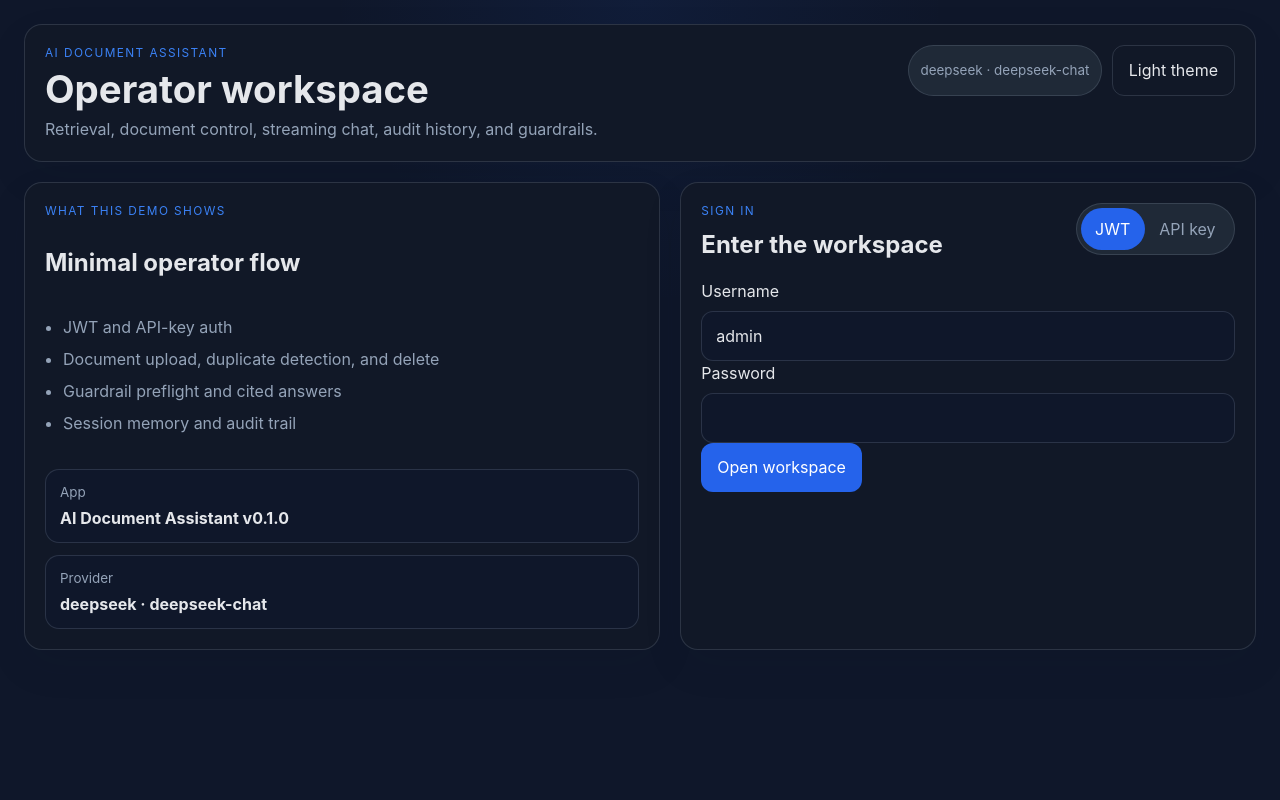
Scenario: App › authenticates an operator and shows the document workspace
Expected: the button "Open workspace" is shown, [701,443,862,492]
In the password field labelled "Password": (968, 418) [701,393,1235,443], type "admin"
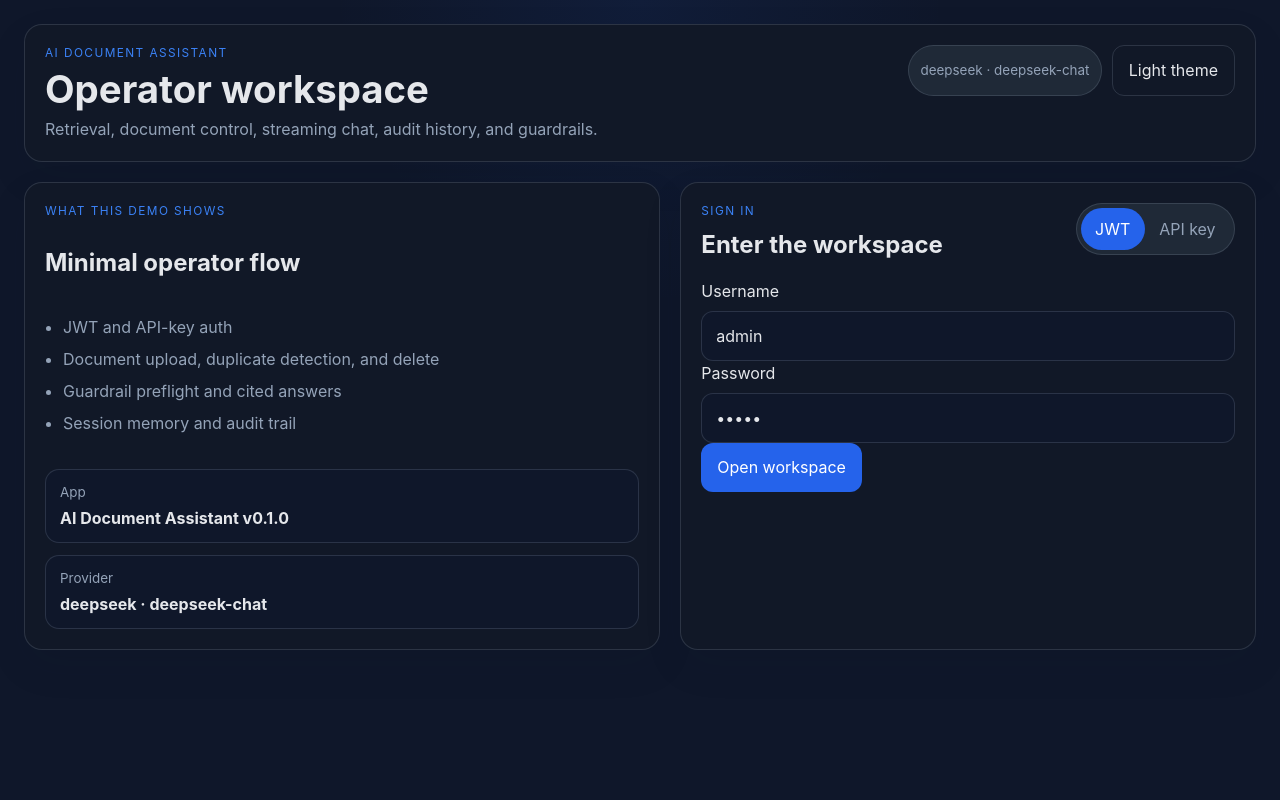
Click the button "Open workspace": (782, 467) [701,443,862,492]
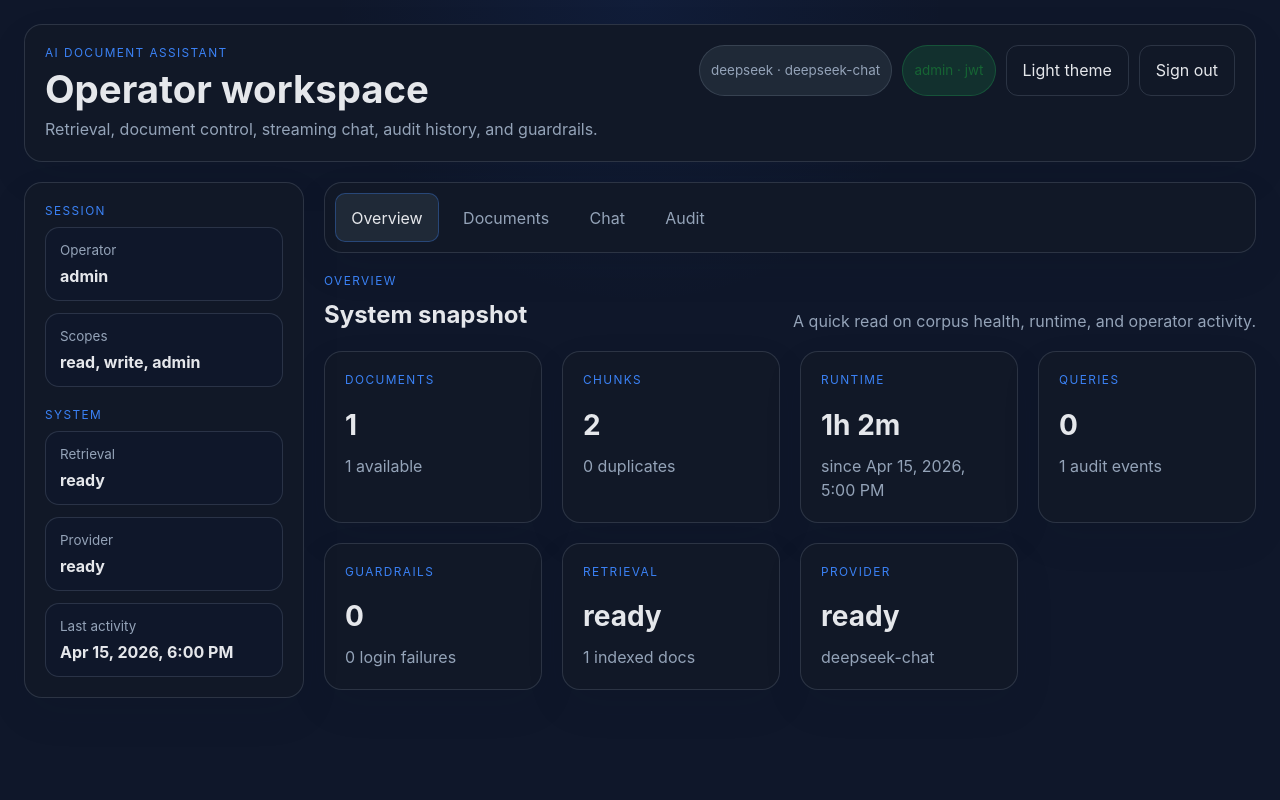
Expected: the button "Documents" is shown
Expected: the text "1h 2m" is shown, [821,408,900,442]
Click the button "Documents": (506, 218) [447,193,565,242]
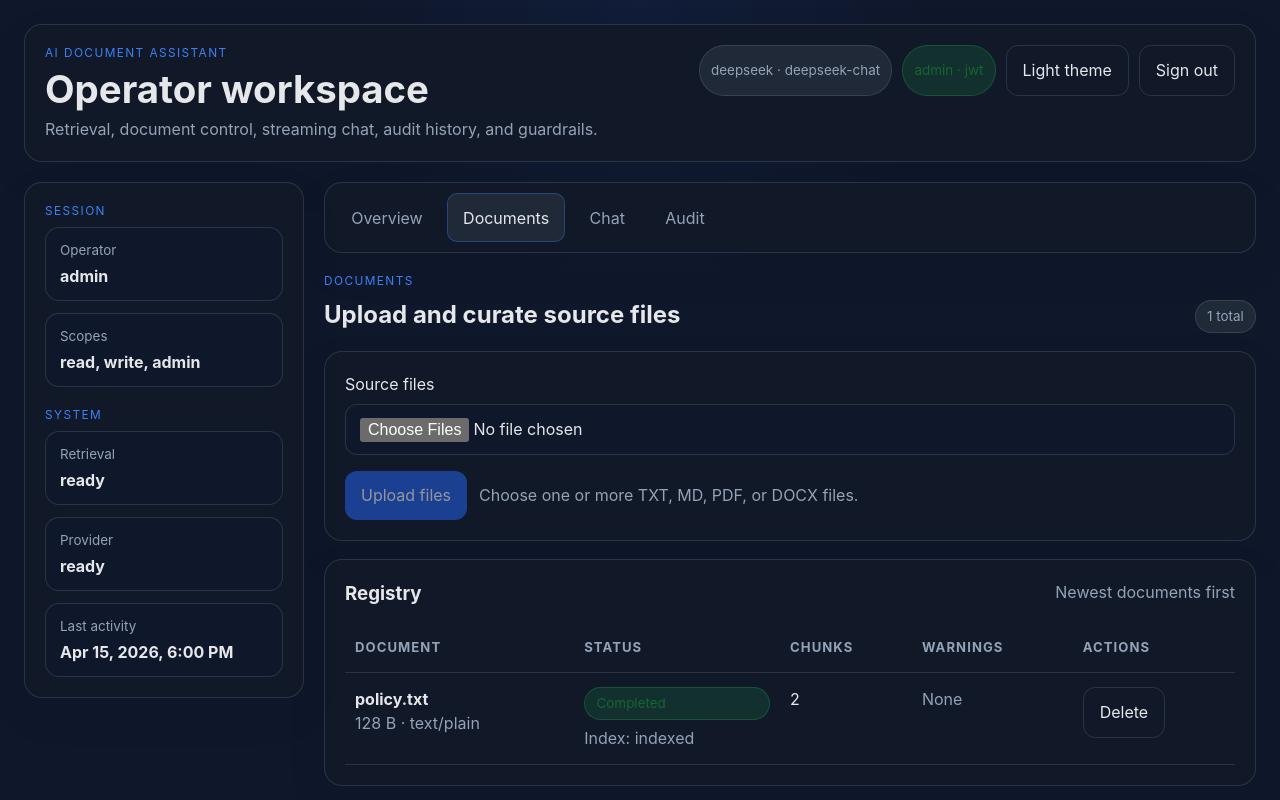
Expected: the text "policy.txt" is shown, [355,689,428,709]
